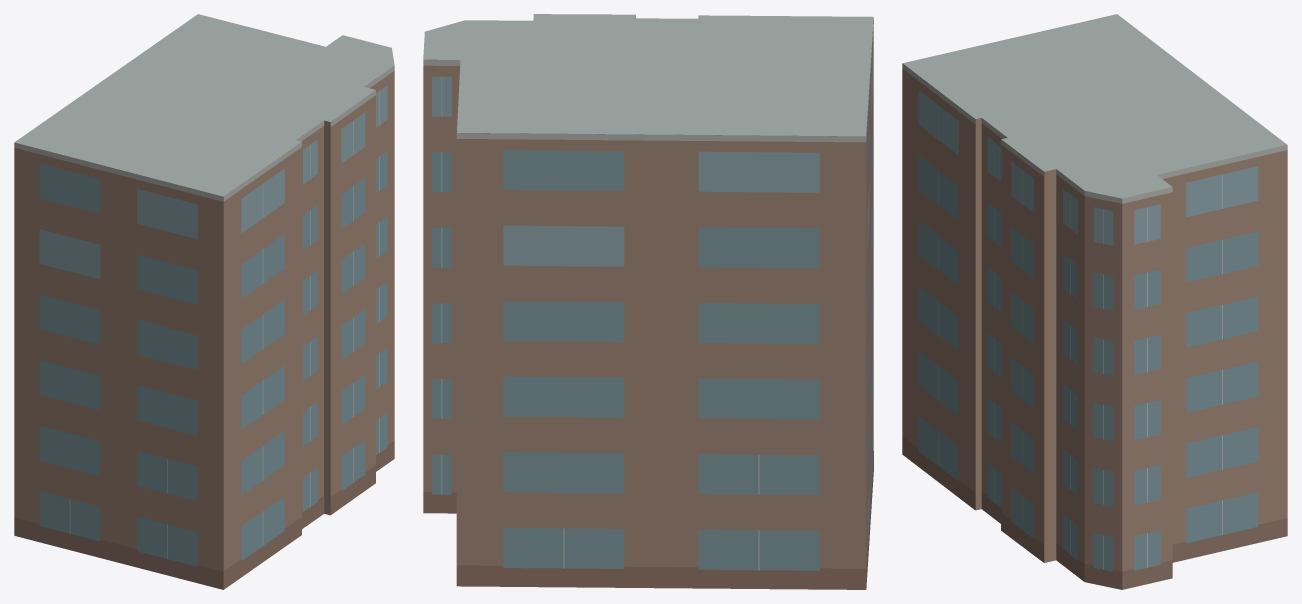
The model's file is survey-upis-32708818.glb.
The picture shows the model from 3 angles, left to right: view 1: azimuth 30°, elevation 25°; view 2: azimuth 150°, elevation 25°; view 3: azimuth 270°, elevation 25°; orthographic projection. The views are drawn at different scales.
Parts seen in each view (by area): view 1: survey-upis-32708818.tmp; view 2: survey-upis-32708818.tmp; view 3: survey-upis-32708818.tmp.
Boxes of the visible parts, left/top/right/bottom form: survey-upis-32708818.tmp: left=14, top=14, right=394, bottom=589; survey-upis-32708818.tmp: left=423, top=14, right=873, bottom=589; survey-upis-32708818.tmp: left=902, top=14, right=1287, bottom=589.
Size of the model in its own units: 18.52 by 18.3 by 16.33.
